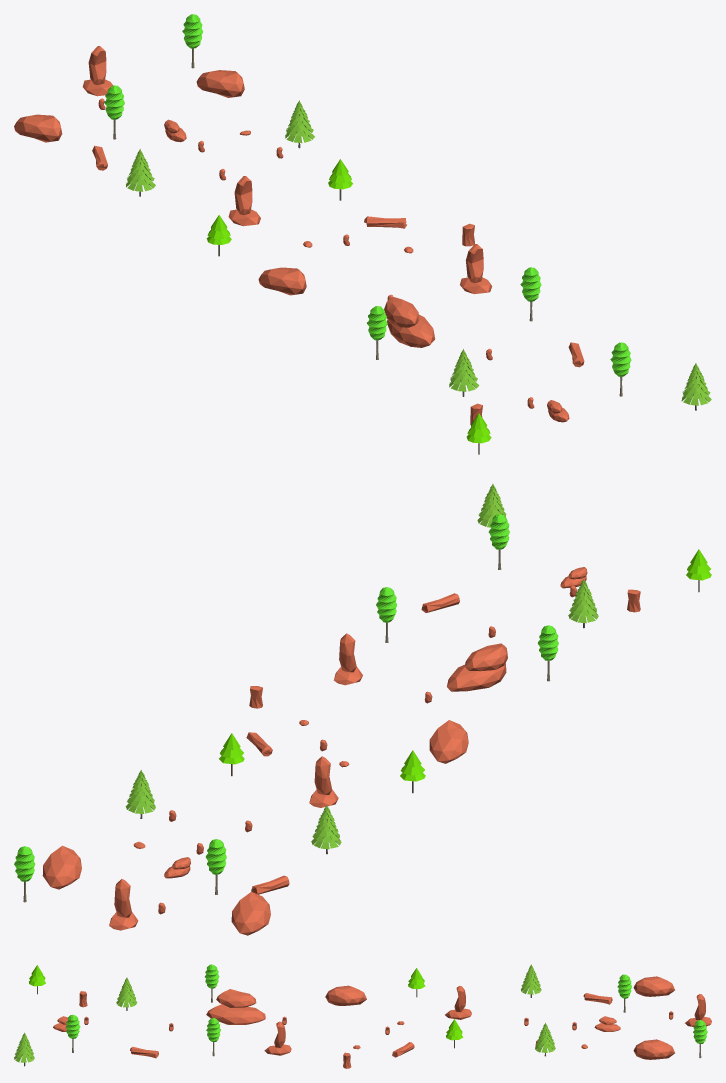
File: shadow_coboy001.fbx
The picture shows the model from 3 angles, top to bottom: view 1: azimuth 30°, elevation 25°; view 2: azimuth 150°, elevation 25°; view 3: azimuth 270°, elevation 25°; orthographic projection. The views are drawn at different scales.
Visible parts, largest first — view 1: shadow_coboy0101; view 2: shadow_coboy0101; view 3: shadow_coboy0101.
Boxes of the visible parts, <box> form: shadow_coboy0101: <box>14,14,711,454</box>; shadow_coboy0101: <box>14,484,711,935</box>; shadow_coboy0101: <box>14,964,711,1068</box>.
Size of the model in its own units: 7153 by 1577 by 25186.
